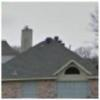chimneys: (22, 26, 32, 52)
